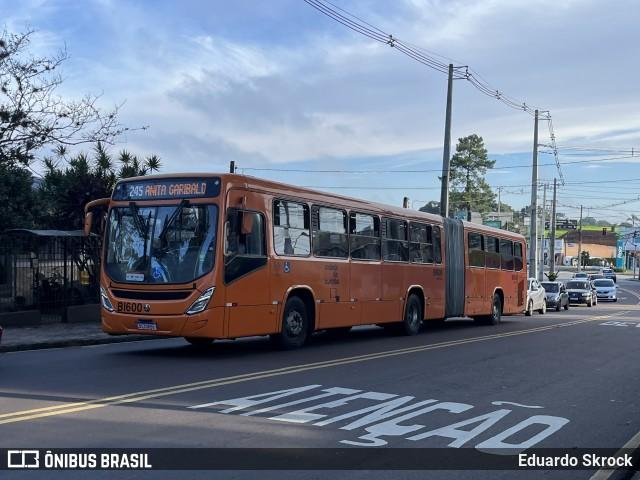ANITA GARIBALDI: (141, 179, 211, 198)
